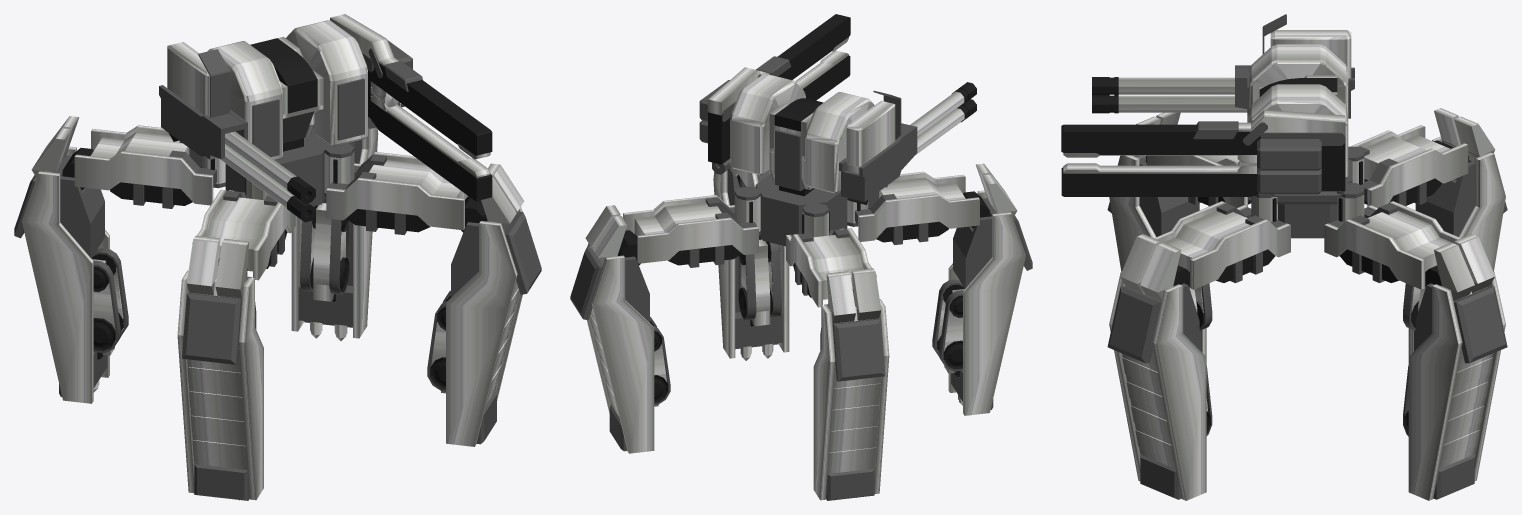
The model's file is Robot.fbx.
The picture shows the model from 3 angles, left to right: view 1: azimuth 30°, elevation 25°; view 2: azimuth 150°, elevation 25°; view 3: azimuth 270°, elevation 25°; orthographic projection. The views are drawn at different scales.
Visible parts, largest first — view 1: obj60, obj71, obj36, obj31, obj63, obj58, obj29, obj74, obj32, obj62, obj40, obj70 (+25 smaller); view 2: obj71, obj60, obj36, obj74, obj69, obj63, obj34, obj31, obj35, obj73, obj4, obj90 (+22 smaller); view 3: obj71, obj31, obj60, obj74, obj36, obj40, obj63, obj35, obj73, obj69, obj84, obj58 (+24 smaller).
Part boxes in pixels (x1,y1,x2,y2): obj60: [177, 207, 522, 500]; obj71: [22, 127, 378, 403]; obj36: [207, 20, 367, 160]; obj31: [368, 63, 492, 201]; obj63: [192, 152, 464, 280]; obj58: [187, 221, 519, 470]; obj29: [182, 211, 541, 364]; obj74: [74, 125, 213, 205]; obj32: [186, 163, 524, 298]; obj62: [206, 160, 468, 271]; obj40: [219, 131, 315, 222]; obj70: [55, 139, 361, 285]; obj71: [587, 243, 889, 500]; obj60: [713, 170, 1025, 415]; obj36: [730, 73, 874, 193]; obj74: [623, 195, 876, 307]; obj69: [589, 256, 880, 473]; obj63: [729, 167, 979, 241]; obj34: [570, 247, 885, 381]; obj31: [708, 14, 850, 164]; obj35: [585, 205, 881, 323]; obj73: [634, 202, 863, 299]; obj4: [755, 174, 847, 246]; obj90: [839, 126, 917, 201]; obj71: [1408, 136, 1505, 500]; obj31: [1061, 124, 1345, 196]; obj60: [1109, 155, 1206, 500]; obj74: [1324, 125, 1468, 289]; obj36: [1249, 44, 1348, 178]; obj40: [1092, 77, 1247, 113]; obj63: [1146, 155, 1290, 289]; obj35: [1434, 108, 1495, 301]; obj73: [1364, 135, 1450, 271]; obj69: [1439, 140, 1492, 468]; obj84: [1257, 139, 1321, 194]; obj58: [1122, 155, 1175, 468].
Bounding box in the file's own units: 122 × 128 × 135.
3 materials, 1 textured.
